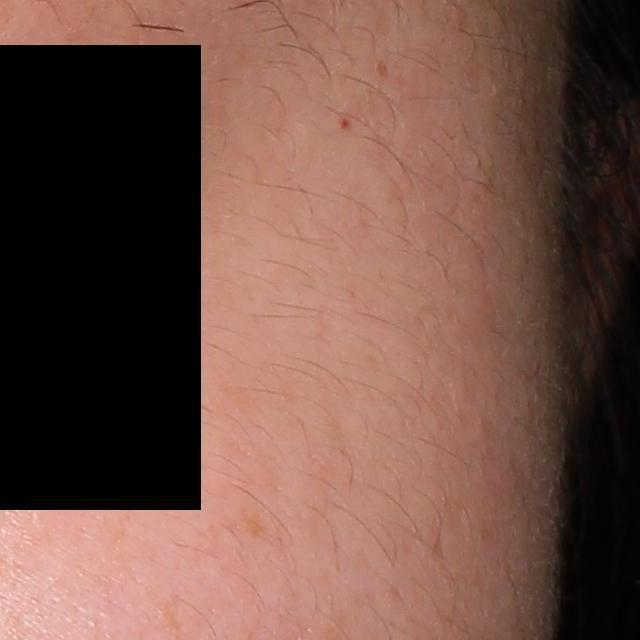melasma: (157, 585, 189, 635), (237, 506, 270, 541)
